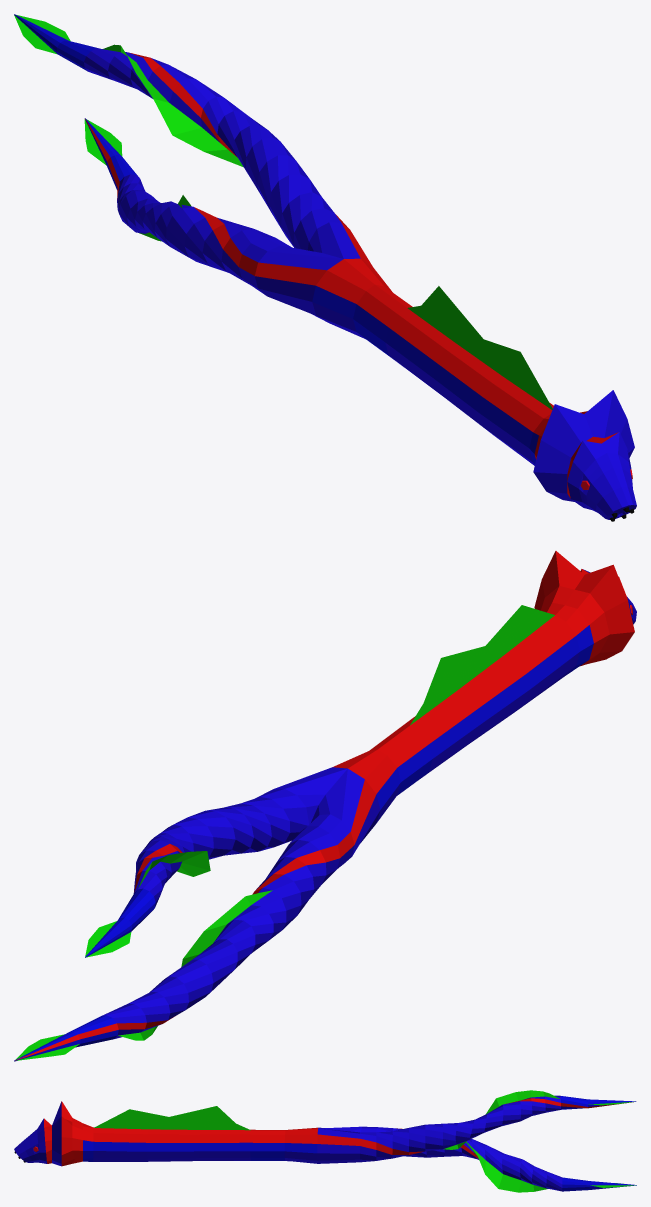
File: Lamprey2.fbx
3 views of the same model, one above another, from view 1: azimuth 30°, elevation 25°; view 2: azimuth 150°, elevation 25°; view 3: azimuth 270°, elevation 25° (orthographic). The views are drawn at different scales.
Visible parts, largest first — view 1: Torus; view 2: Torus; view 3: Torus.
Boxes of the visible parts, box(x1,y1,x2,y2) form: Torus: box(14, 14, 636, 521); Torus: box(14, 551, 636, 1061); Torus: box(14, 1090, 636, 1192).
Size of the model in its own units: 2.57 by 3.86 by 22.19.
